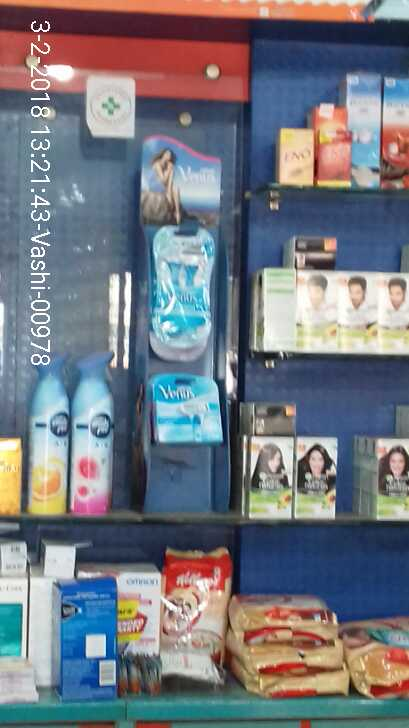home: (66, 345, 121, 511), (24, 350, 74, 514)
venus: (151, 220, 220, 358), (151, 370, 231, 446)
